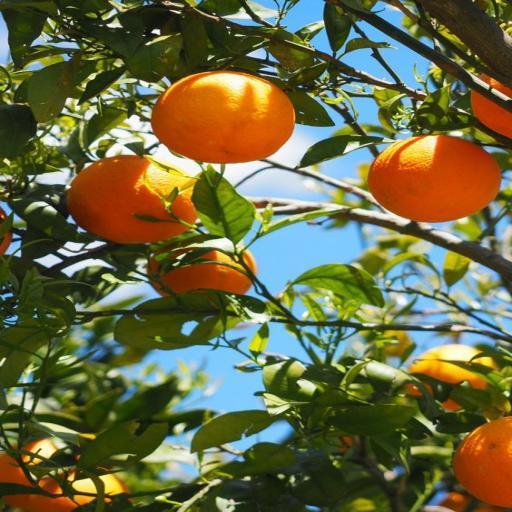orange: (151, 71, 295, 163), (368, 135, 501, 222), (68, 155, 196, 243)
